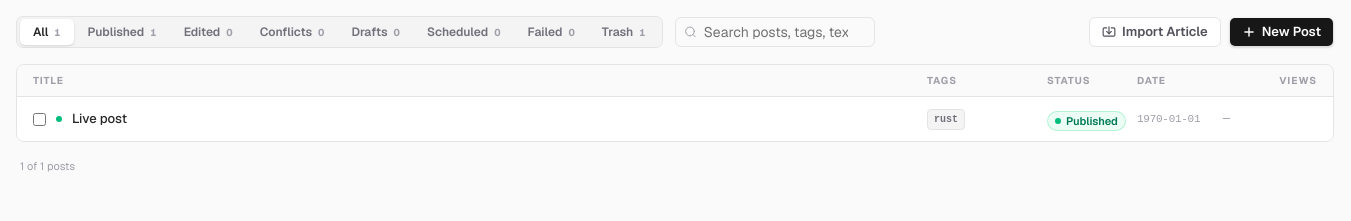
the posts list › drops a trashed post from the selection when the tab changes
This screenshot has width=1351, height=221.
Click the tab "Trash 1" at (624, 32), box x1=589 y1=19 x2=659 y2=45
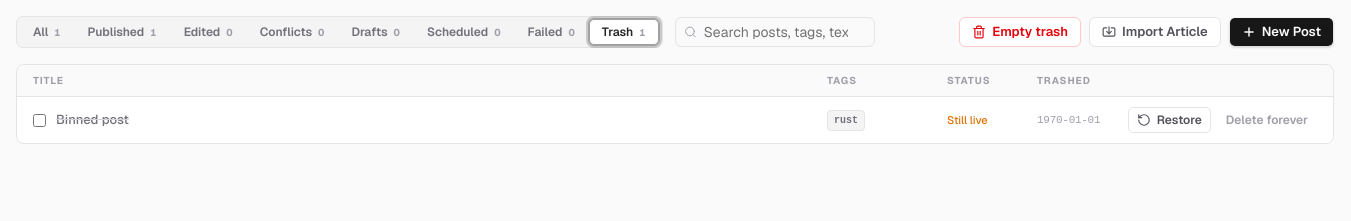
Click the checkbox named "Select Binned post" at (40, 120), box x1=33 y1=114 x2=46 y2=126
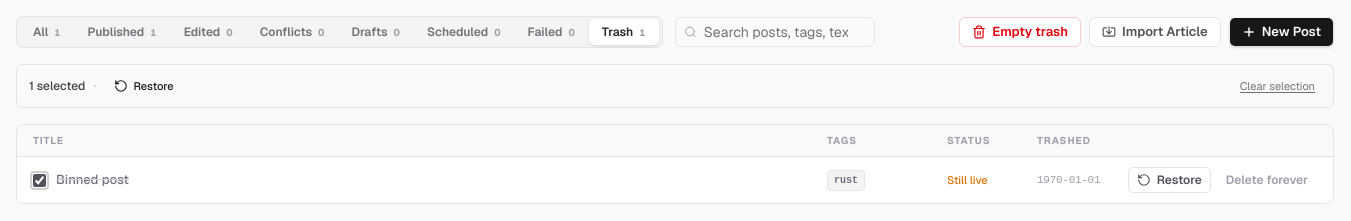
Check: the text "1 selected" is shown, box x1=29 y1=77 x2=85 y2=95
Click the tab "All 1" at (47, 32), box x1=20 y1=19 x2=74 y2=45
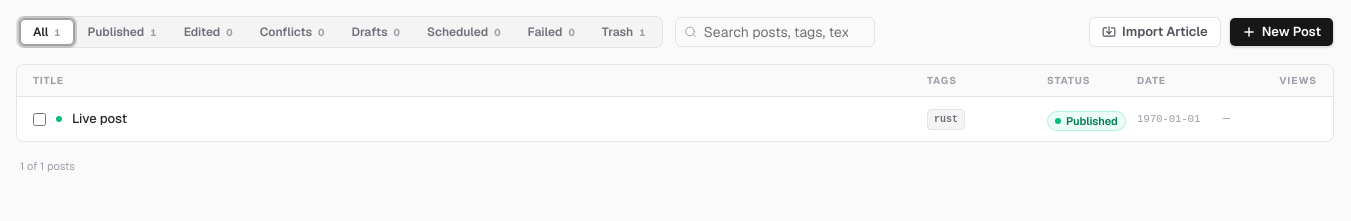
Check: the text "1 selected" is gone
Check: the text "Binned post" is gone
